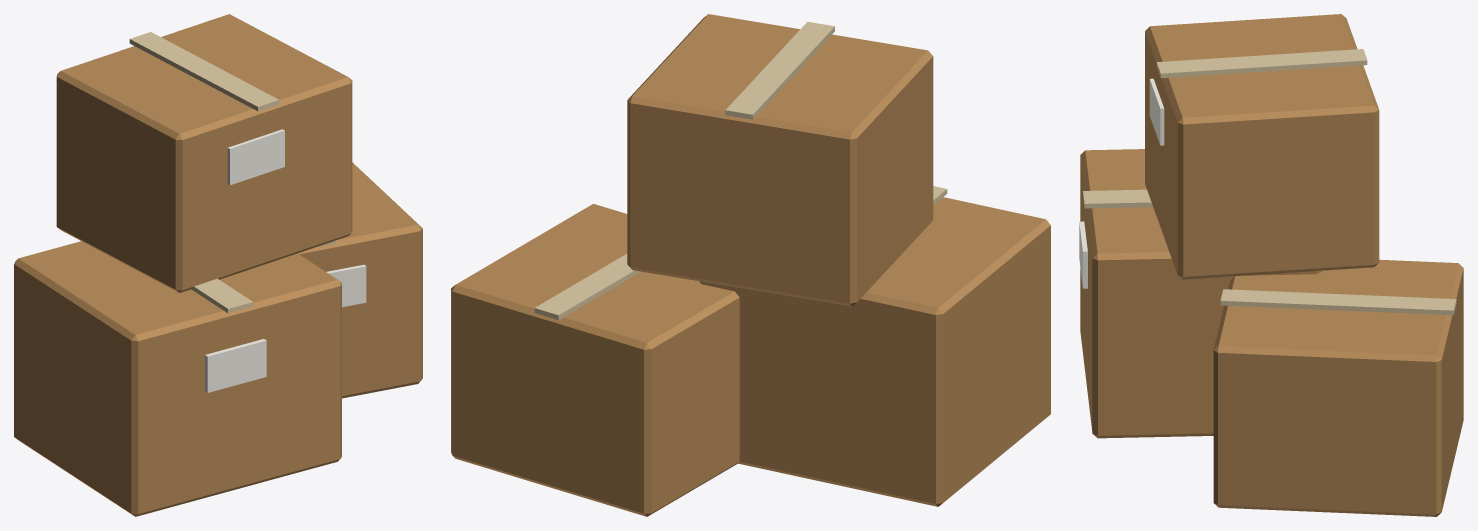
Rendered from moving_boxes.glb.
The picture shows the model from 3 angles, left to right: view 1: azimuth 30°, elevation 25°; view 2: azimuth 150°, elevation 25°; view 3: azimuth 270°, elevation 25°; orthographic projection. The views are drawn at different scales.
Parts seen in each view (by area): view 1: moving_boxes_mesh; view 2: moving_boxes_mesh; view 3: moving_boxes_mesh.
Boxes of the visible parts, x1,y1,x2,y2 form: moving_boxes_mesh: (14,14,422,516); moving_boxes_mesh: (451,14,1050,516); moving_boxes_mesh: (1079,14,1463,516).
Size of the model in its own units: 0.8858 by 0.76 by 0.7538.
